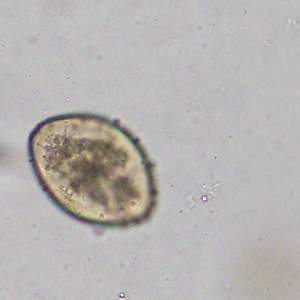Fasciola_hepatica_egg: (27, 112, 157, 229)
